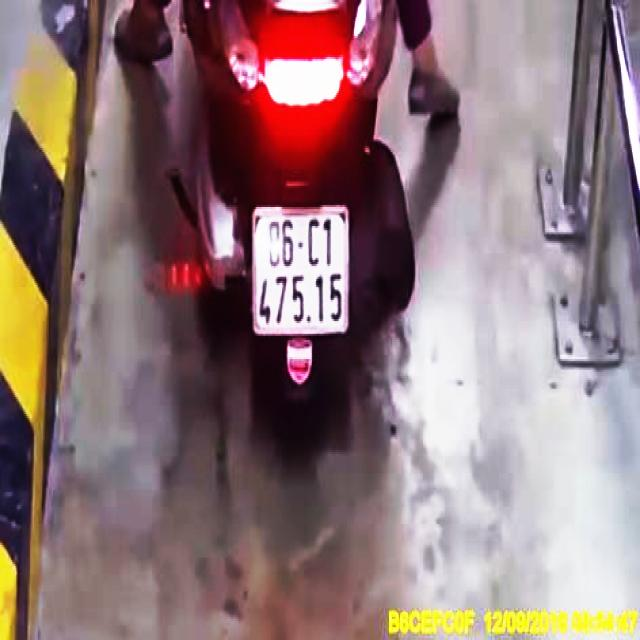license_plate: (252, 207, 352, 333)
